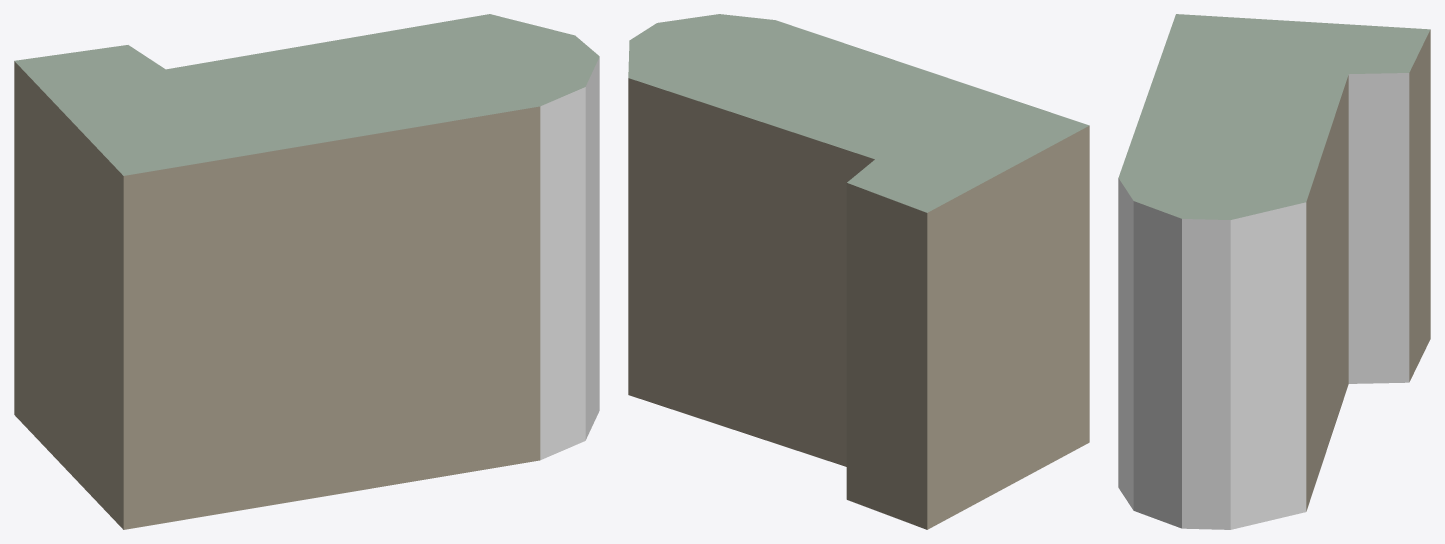
3 views of the same model, side by side, from view 1: azimuth 30°, elevation 25°; view 2: azimuth 150°, elevation 25°; view 3: azimuth 270°, elevation 25° (orthographic). The views are drawn at different scales.
Parts seen in each view (by area): view 1: tuile; view 2: tuile; view 3: tuile.
Part boxes in pixels (box(x1,y1,x2,y2)): tuile: box(14, 14, 599, 529); tuile: box(628, 14, 1089, 529); tuile: box(1118, 14, 1430, 529).
Size of the model in its own units: 16.1 by 11.28 by 10.3.
